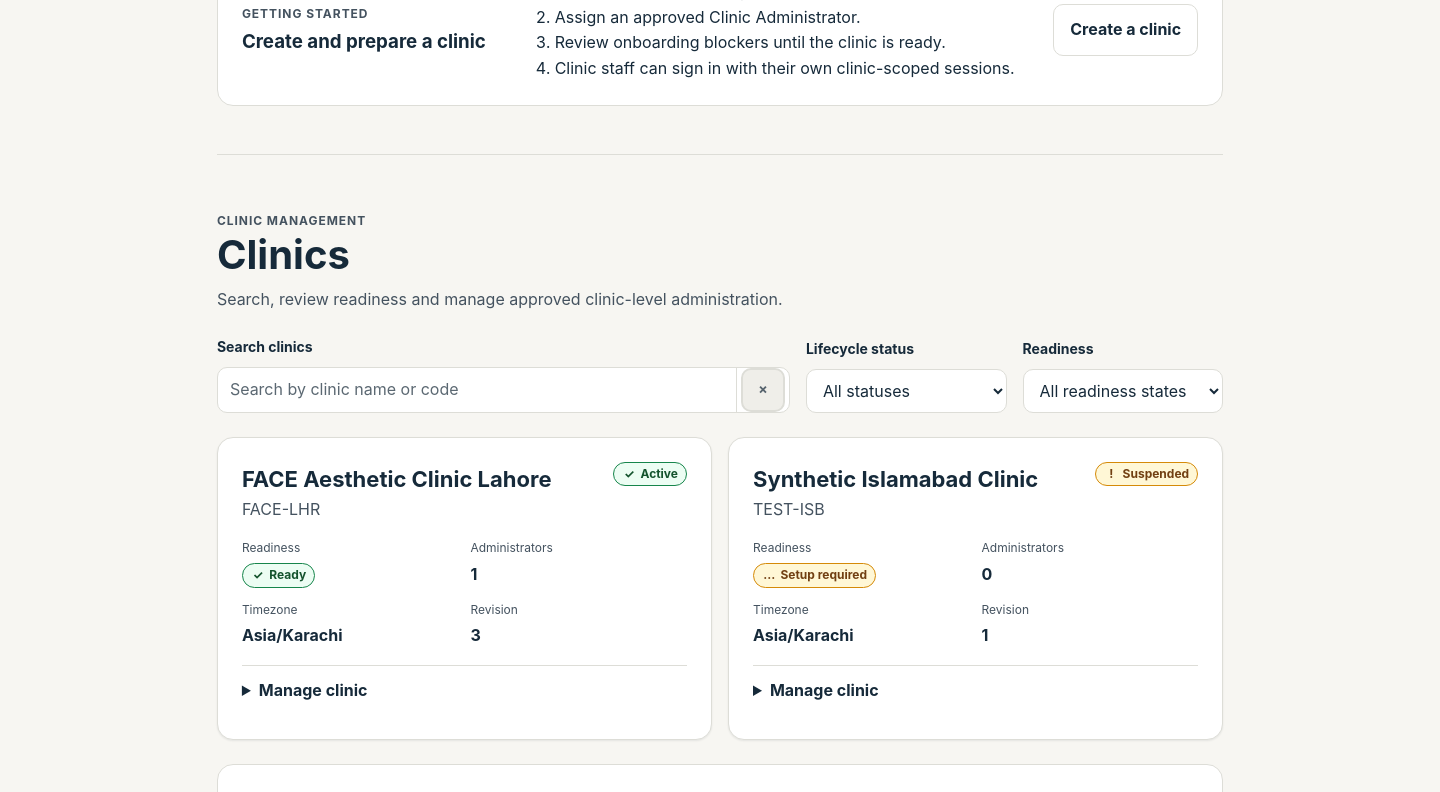
PlatformDashboardView › filters clinics by name and lifecycle without changing authority data
(page scrolled)
Type "face" into the search field labelled "Search clinics" at (477, 390), box [218,368,736,412]
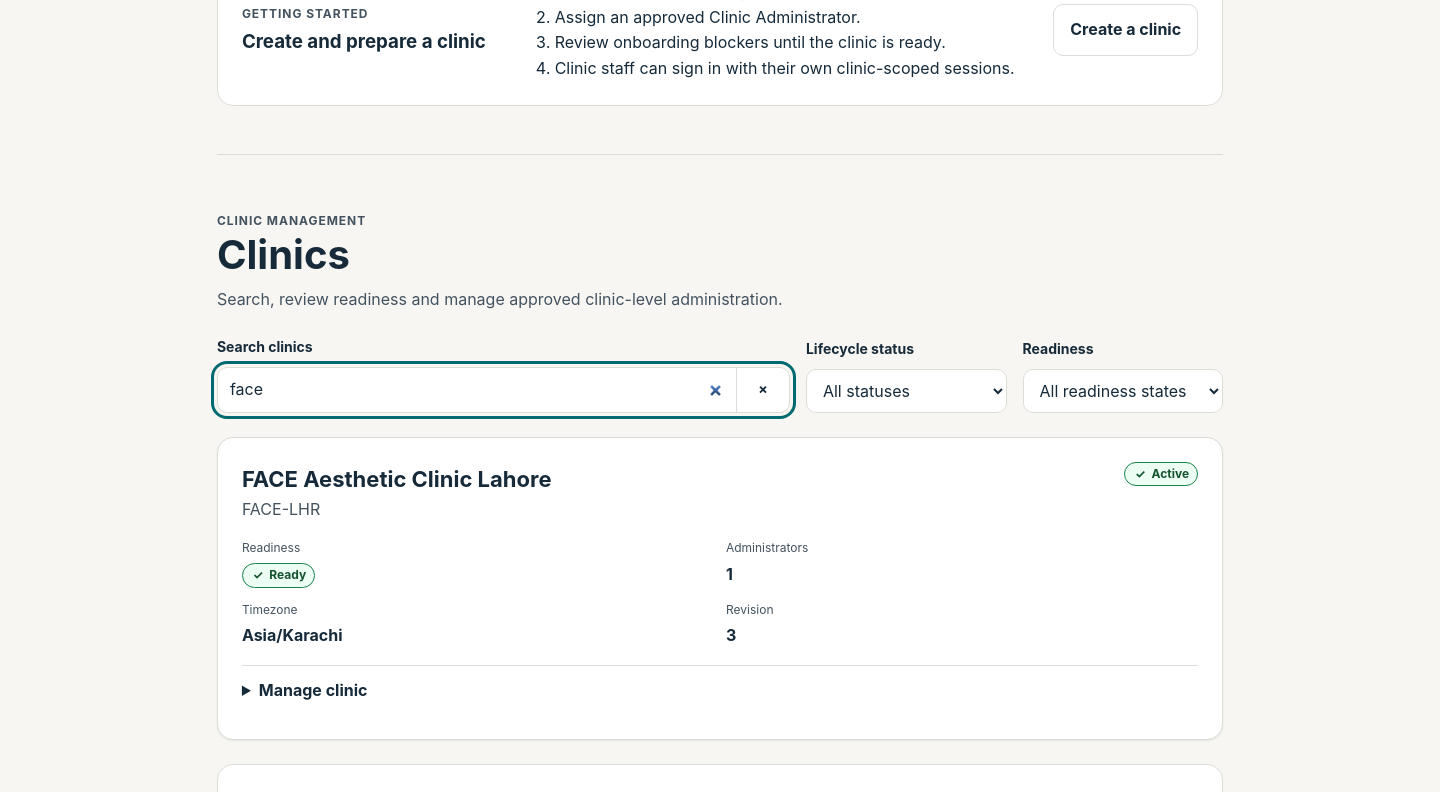
Expected: the heading "FACE Aesthetic Clinic Lahore" is shown, [242,462,552,497]
Now the heading "Synthetic Islamabad Clinic" is gone
Clear the search field labelled "Search clinics" at (477, 390), box [218,368,736,412]
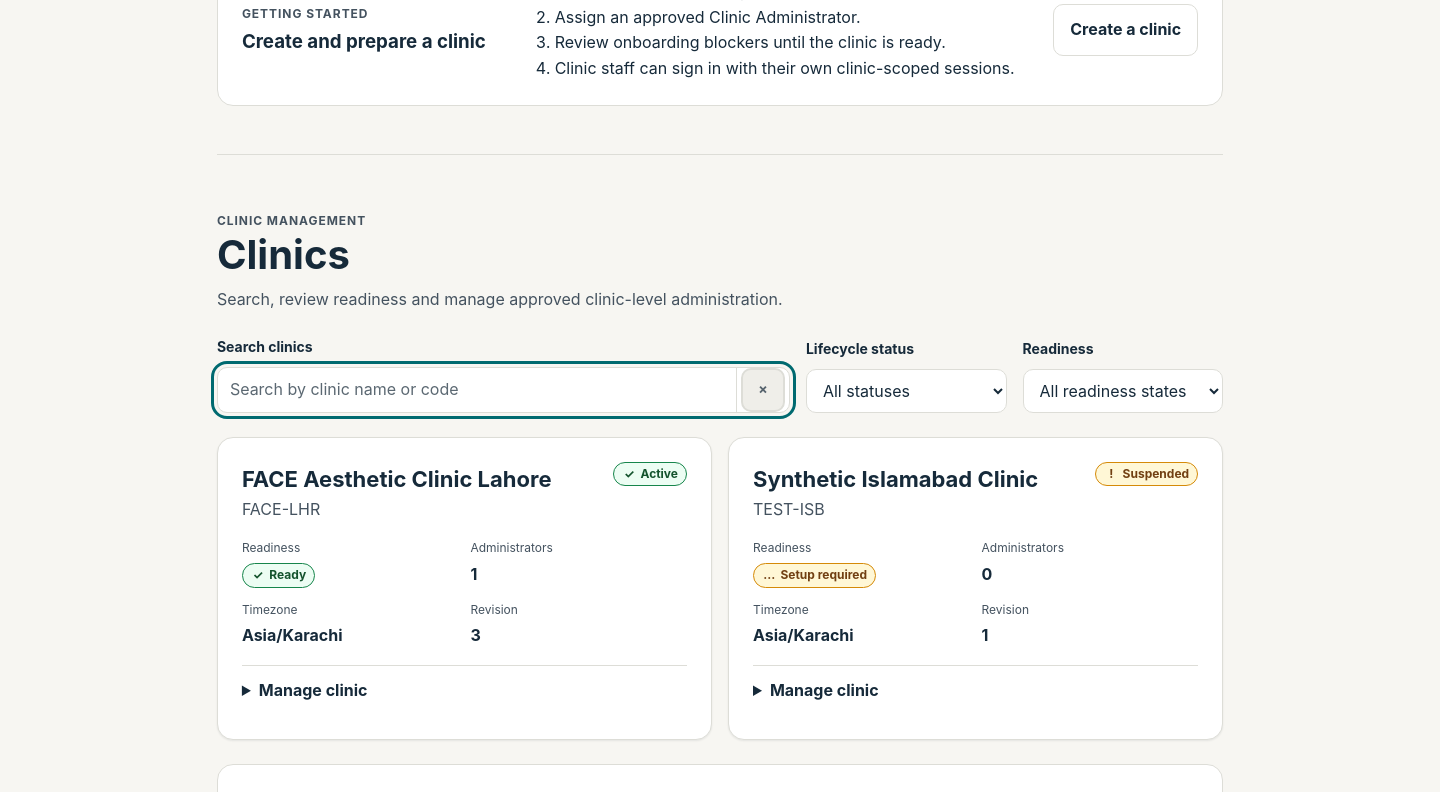
Select "Suspended" in the dropdown labelled "Lifecycle status" at (906, 390), box [806,368,1007,412]
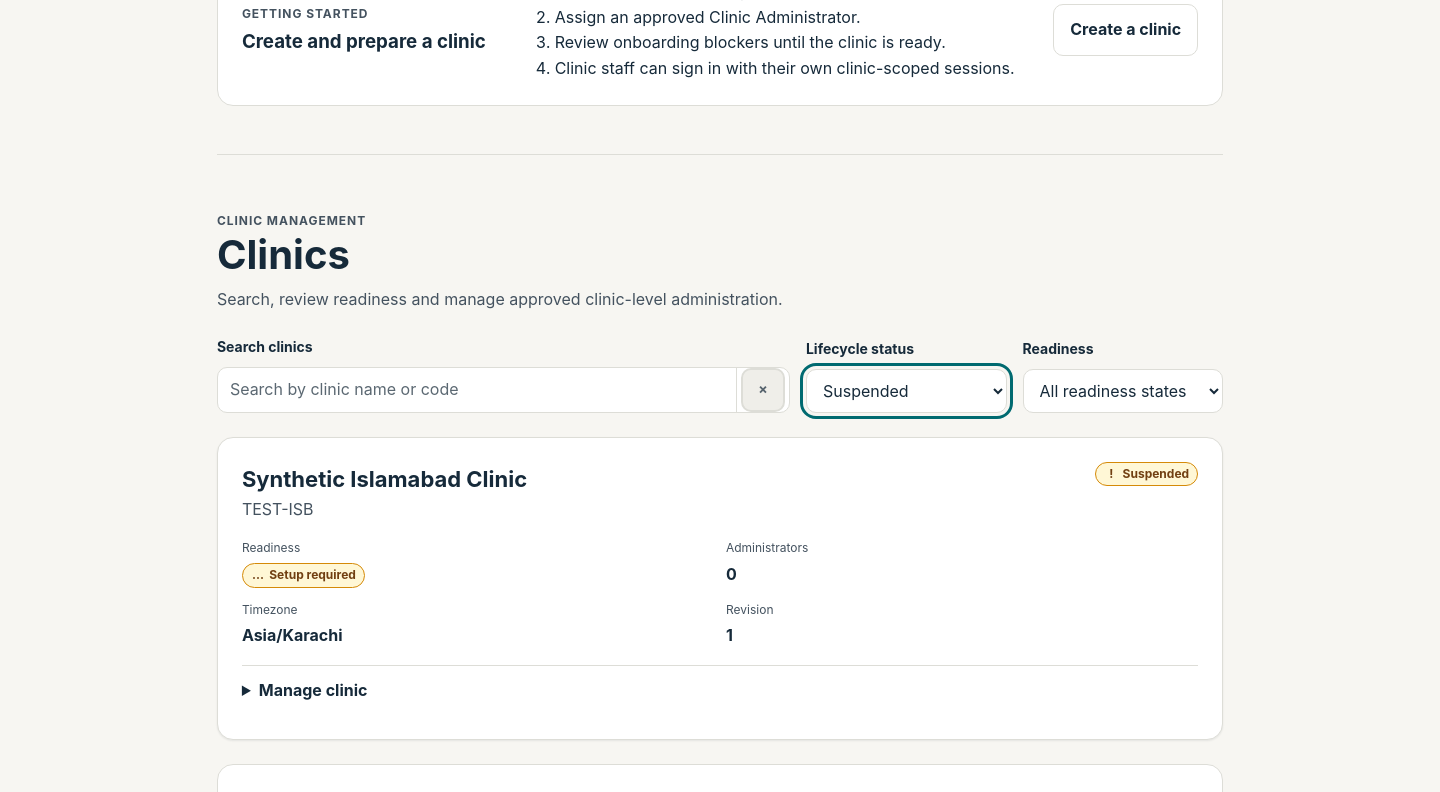
Now the heading "Synthetic Islamabad Clinic" is shown, box [242,462,527,497]
Now the heading "FACE Aesthetic Clinic Lahore" is gone
